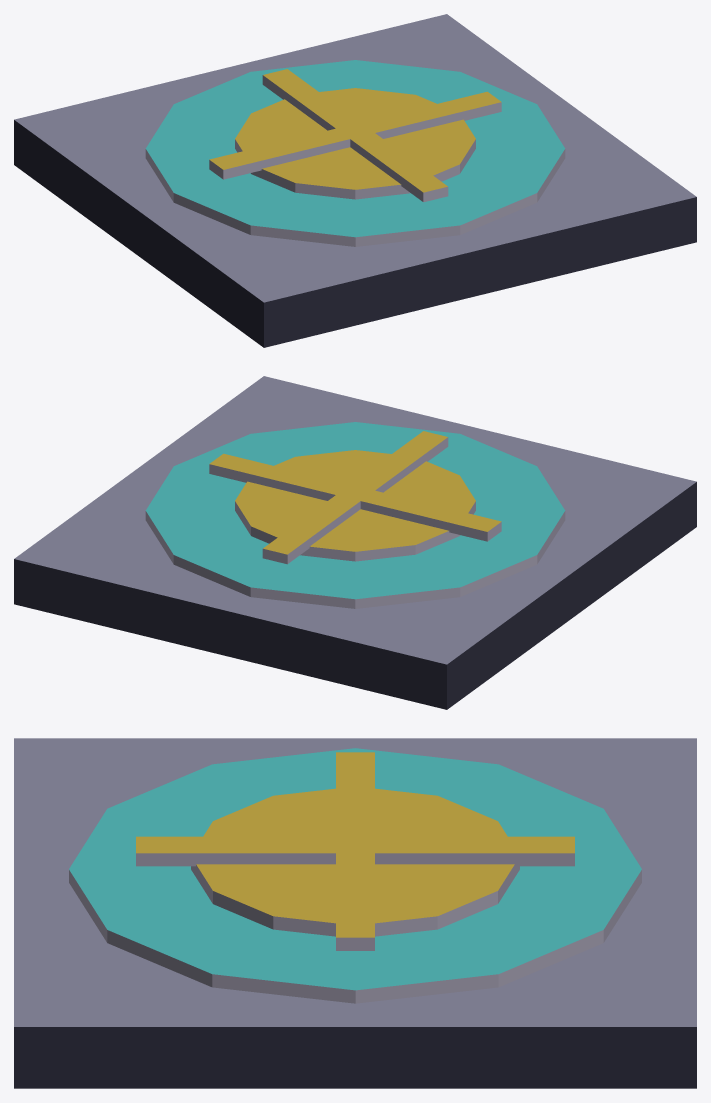
Rendered from star_garden_toggle_switch.obj.
3 views of the same model, one above another, from view 1: azimuth 30°, elevation 25°; view 2: azimuth 150°, elevation 25°; view 3: azimuth 270°, elevation 25° (orthographic). The views are drawn at different scales.
Parts seen in each view (by area): view 1: star_garden_toggle_switch; view 2: star_garden_toggle_switch; view 3: star_garden_toggle_switch.
Boxes of the visible parts, x1=… form: star_garden_toggle_switch: x1=14, y1=14, x2=696, y2=347; star_garden_toggle_switch: x1=14, y1=376, x2=696, y2=709; star_garden_toggle_switch: x1=14, y1=738, x2=696, y2=1088.
Bounding box in the file's own units: 5.6 × 0.9 × 5.6.
